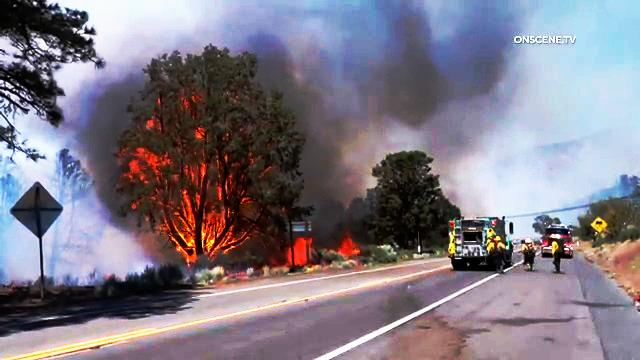fire: (120, 137, 272, 287), (278, 234, 362, 281)
smoke: (284, 0, 467, 131)
